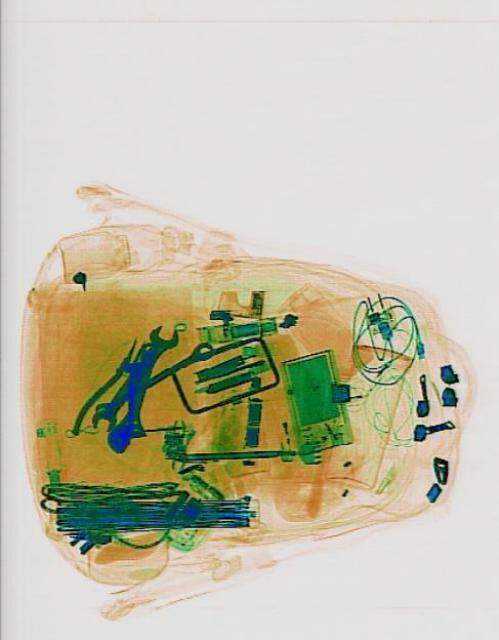Pliers: (67, 329, 159, 458)
Wrench: (86, 331, 215, 437), (117, 318, 179, 440)
